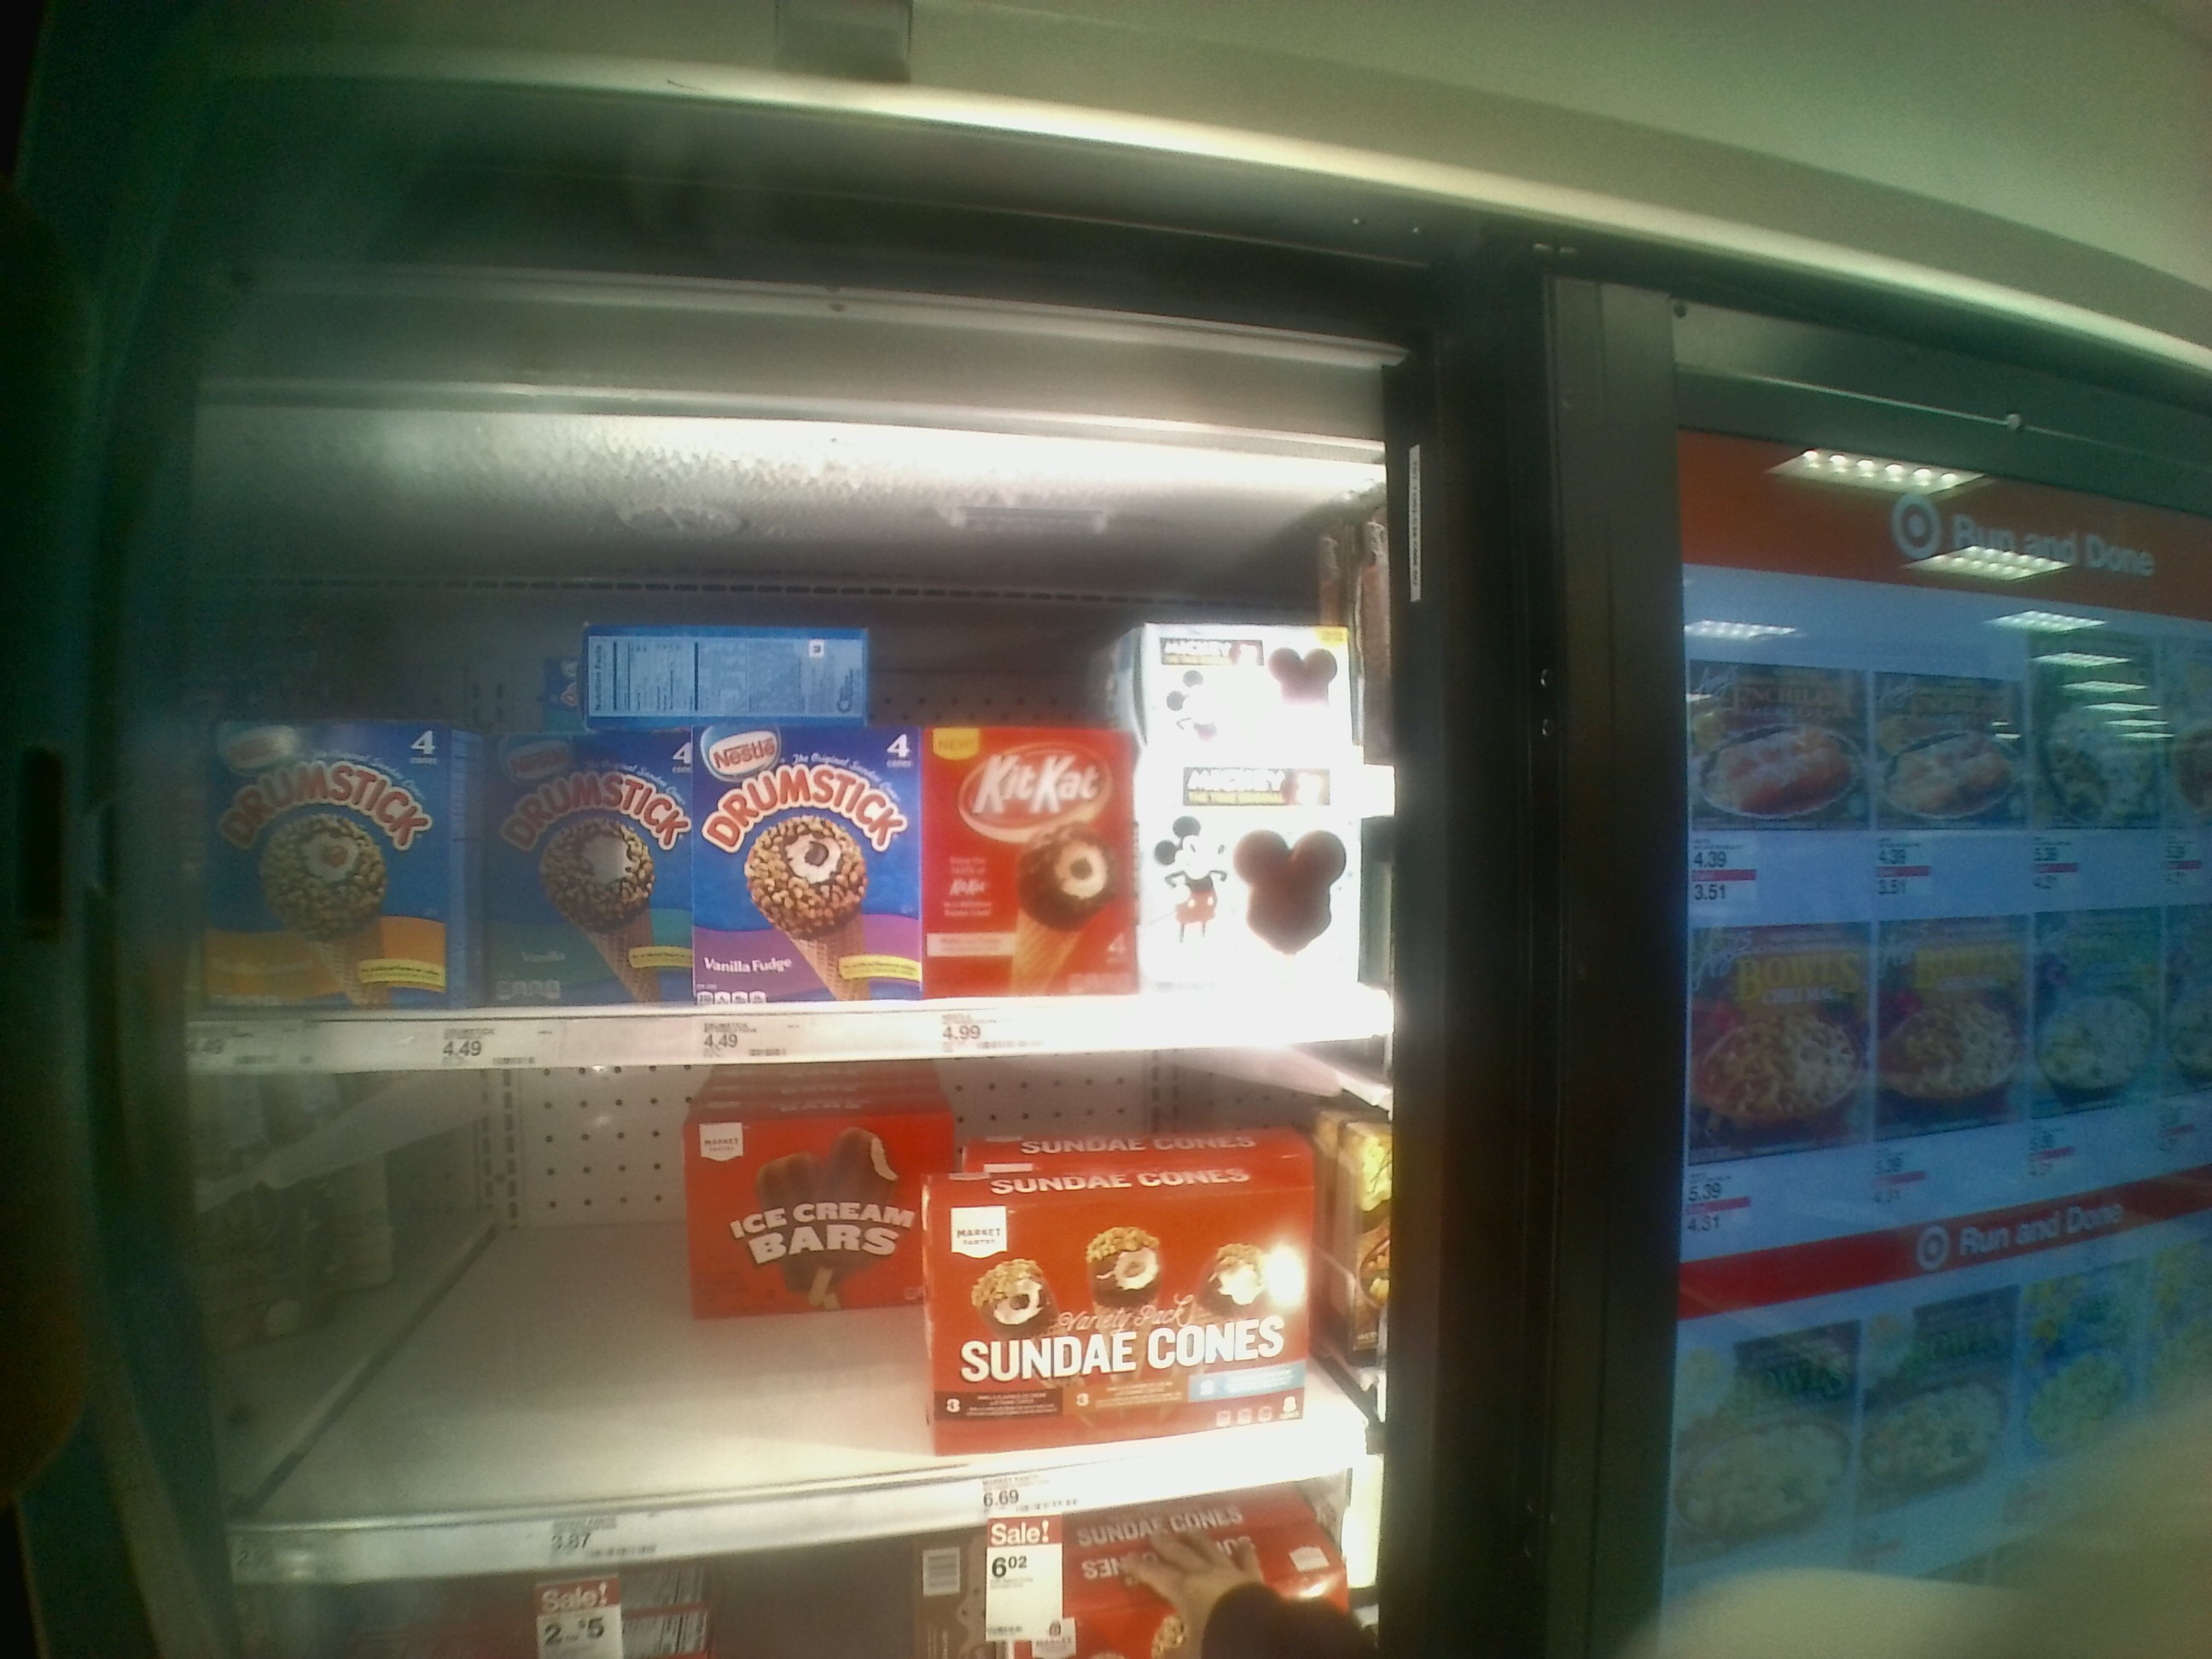shelf: (181, 415, 1414, 1049), (244, 1049, 1371, 1551)
